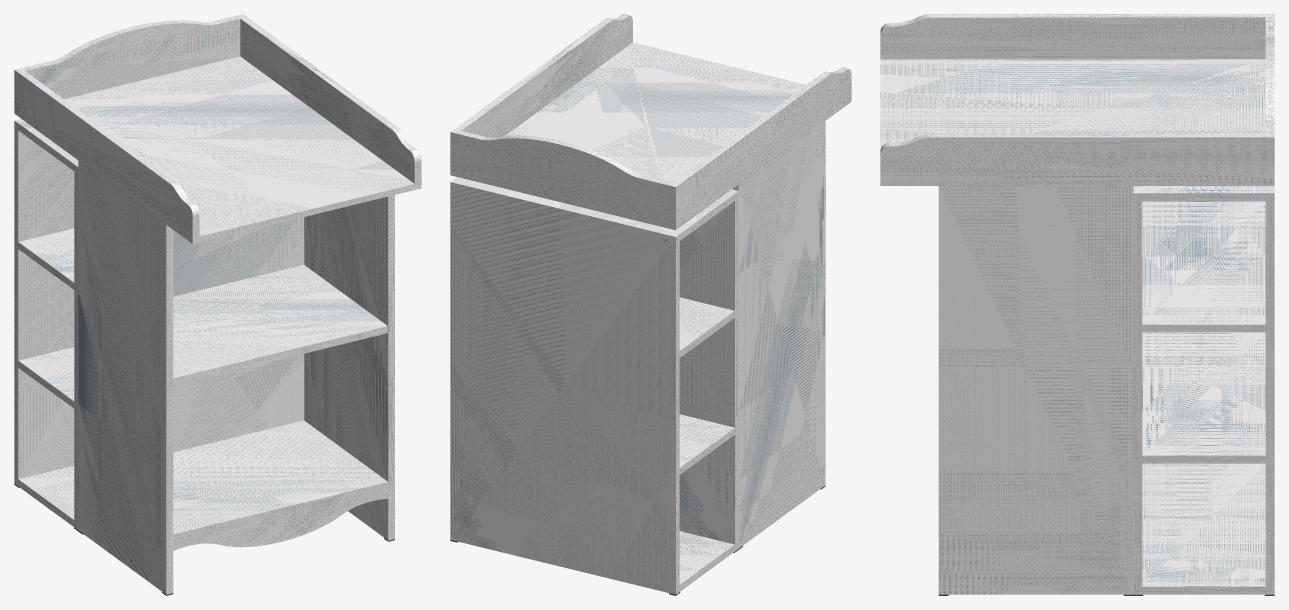
3 views of the same model, side by side, from view 1: azimuth 30°, elevation 25°; view 2: azimuth 150°, elevation 25°; view 3: azimuth 270°, elevation 25° (orthographic). The views are drawn at different scales.
Visible parts, largest first — view 1: group_5, group_22, group_20 (×2), group_4, group_3, group_25, group_23, group_24, group_19, group_18; view 2: group_20 (×2), group_5, group_22, group_25, group_23, group_24, group_19, group_18; view 3: group_5, group_22, group_20 (×2), group_24, group_23, group_18, group_19, group_25.
Boxes of the visible parts, <box> form: group_5: <box>78,161,394,594</box>; group_22: <box>14,56,421,243</box>; group_20 (×2): <box>14,119,78,529</box>; group_4: <box>173,420,388,550</box>; group_3: <box>173,265,387,385</box>; group_25: <box>21,15,240,99</box>; group_23: <box>14,68,199,237</box>; group_24: <box>237,14,421,183</box>; group_19: <box>18,228,74,289</box>; group_18: <box>18,347,74,408</box>; group_20 (×2): <box>450,177,738,594</box>; group_5: <box>732,121,825,548</box>; group_22: <box>450,42,851,230</box>; group_25: <box>457,131,672,222</box>; group_23: <box>669,67,851,224</box>; group_24: <box>450,14,632,170</box>; group_19: <box>679,297,734,357</box>; group_18: <box>679,414,734,474</box>; group_5: <box>938,186,1133,594</box>; group_22: <box>880,59,1274,185</box>; group_20 (×2): <box>1133,186,1274,594</box>; group_24: <box>880,133,1274,178</box>; group_23: <box>880,14,1274,59</box>; group_18: <box>1142,332,1265,463</box>; group_19: <box>1142,201,1265,332</box>; group_25: <box>1265,17,1274,133</box>.
Size of the model in its own units: 23.62 by 31.89 by 42.38.
